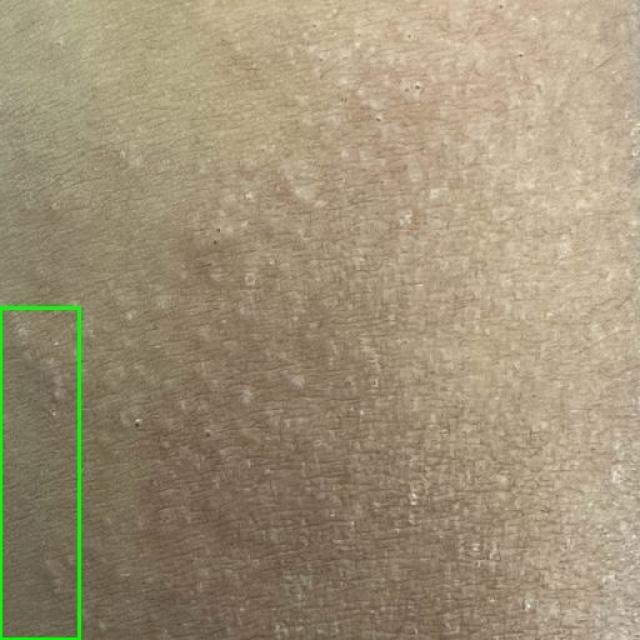Contact Dermatitis: (0, 308, 79, 639)
